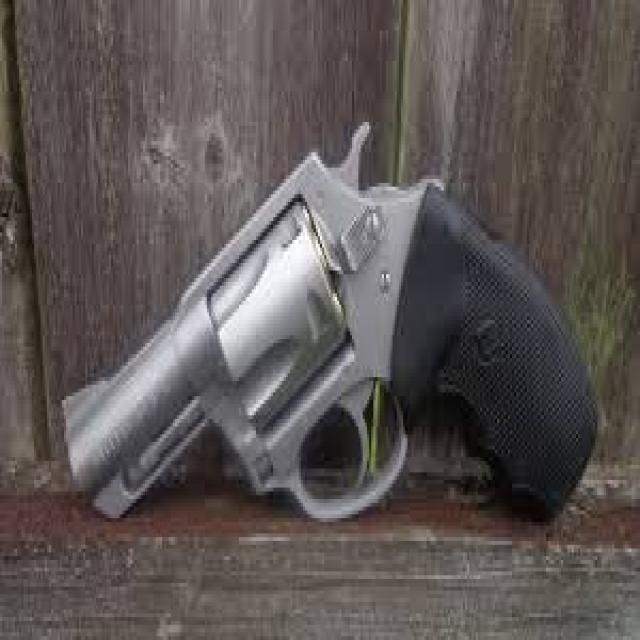Gun: (91, 124, 598, 591)
